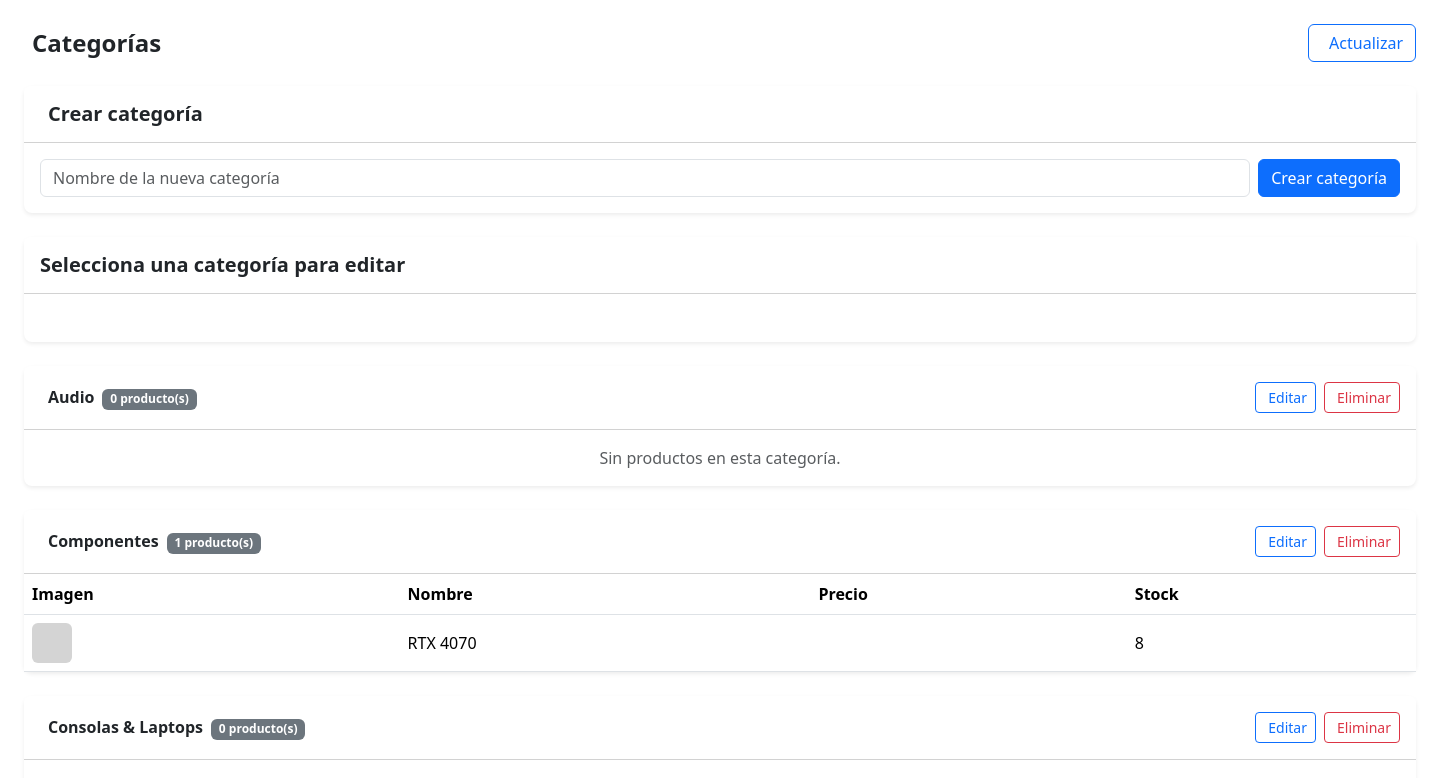
AdminCategorias › crear › si ms-categoria falla al crear muestra el error y conserva lo escrito
Type "Cámaras" into the field with placeholder "Nombre de la nueva categoría" at (645, 178), box [40,159,1250,197]
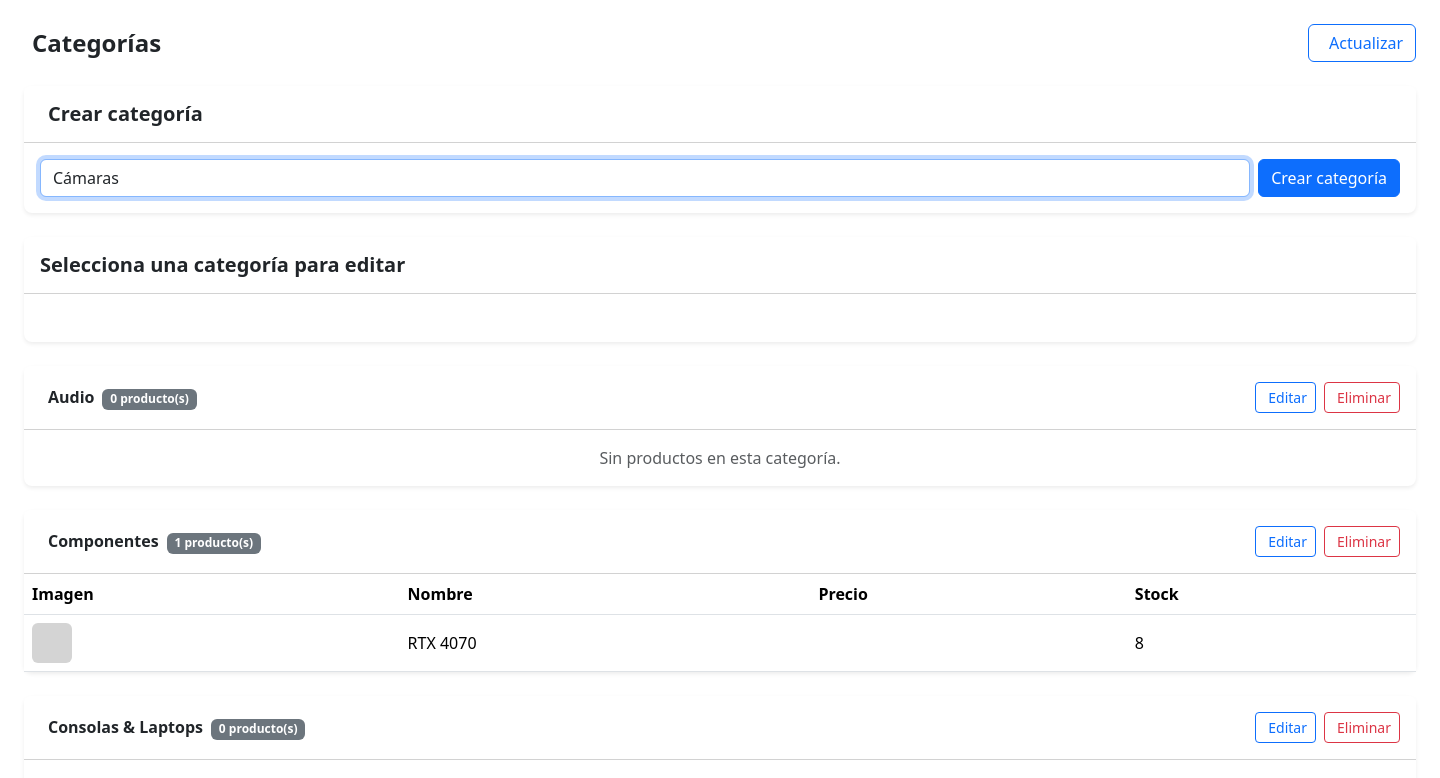
Click the button "Crear categoría" at (1329, 178), box [1258,159,1400,197]
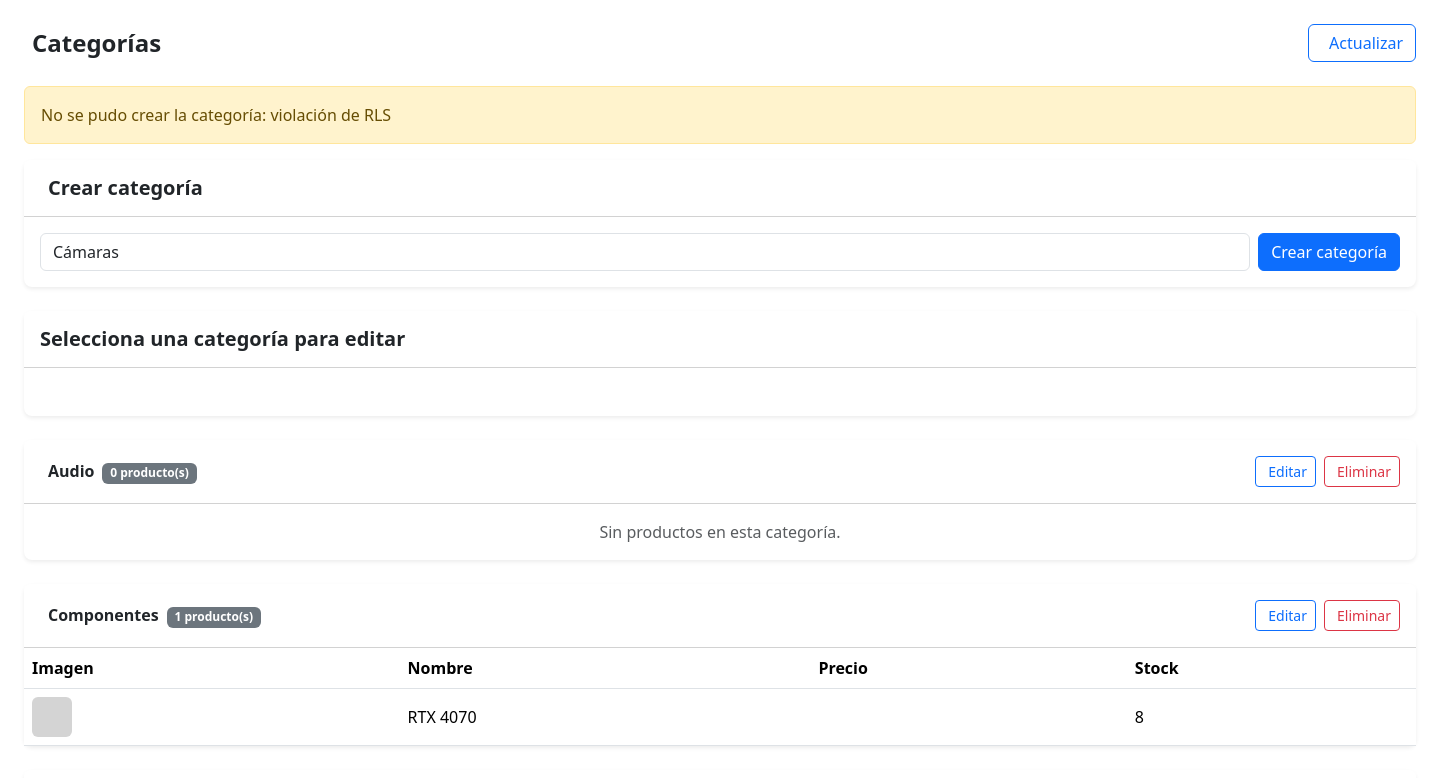
Now the text "No se pudo crear la categoría: violación de RLS" is shown, box [24,86,1416,144]
